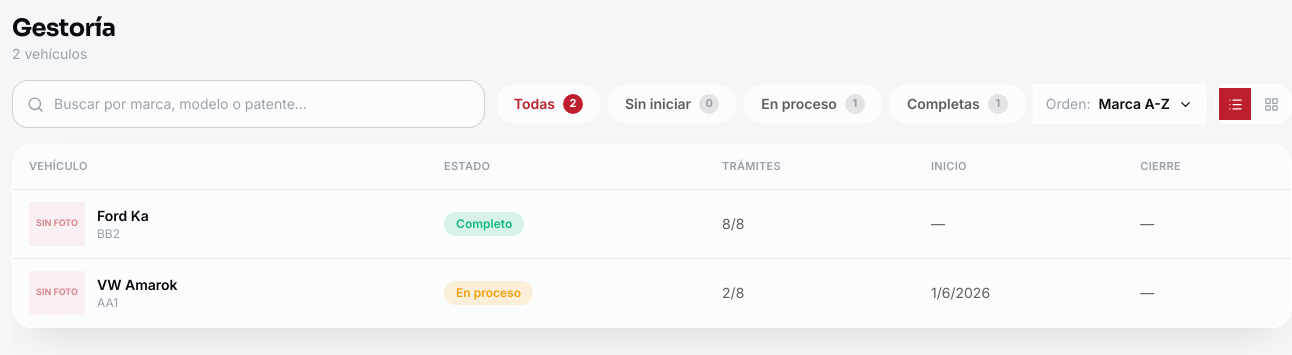
Test: GestoriaListPage › filtrar por "Completas" deja solo esa fila
Click the button "Completas 1" at (957, 104), box [890,85,1025,123]
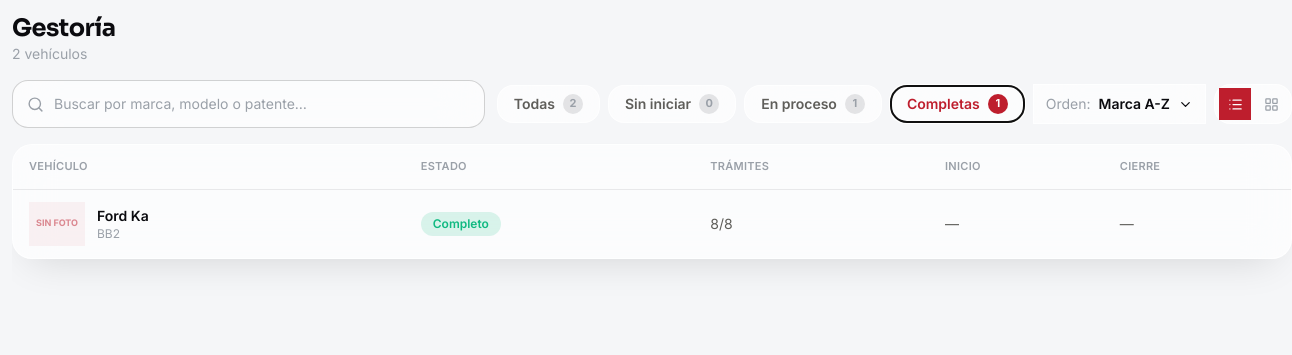
Expected: the text "Ford Ka" is shown, [97,206,149,226]
Expected: the text "VW Amarok" is gone
